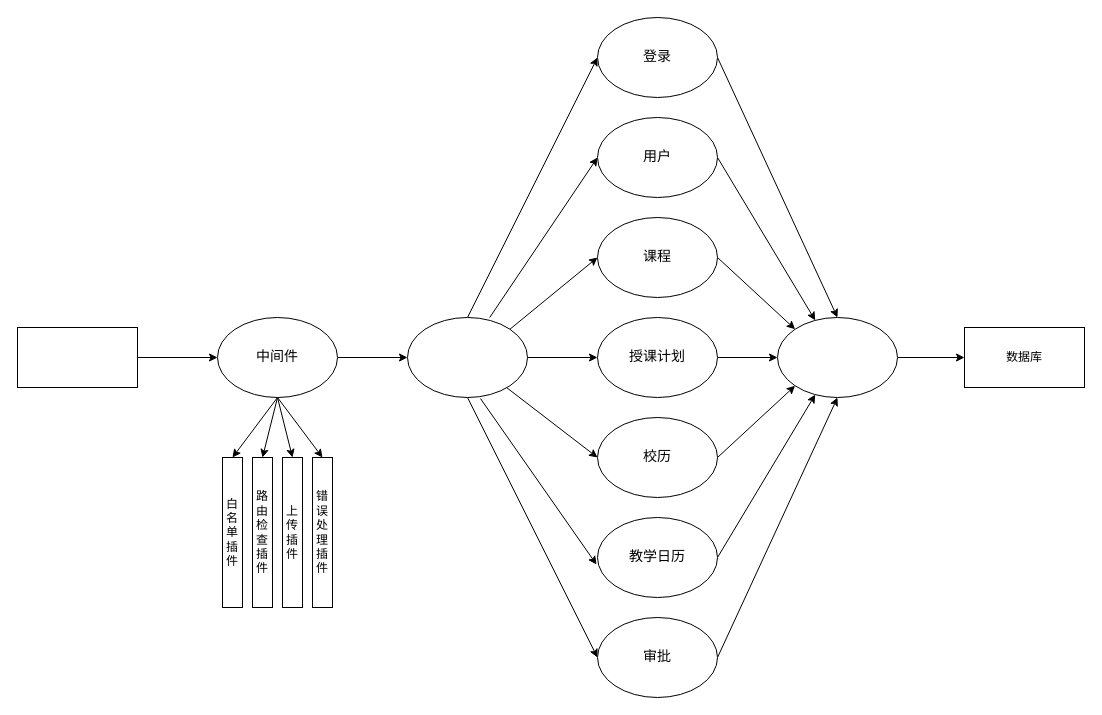
This 1102x715 diagram has some shape labels left out. Here are the shapes that lost their labels. From the top down, the centre of each, then its label:
At point 77,357: "客户端".
At point 467,357: "路由层".
At point 837,357: "数据层".
